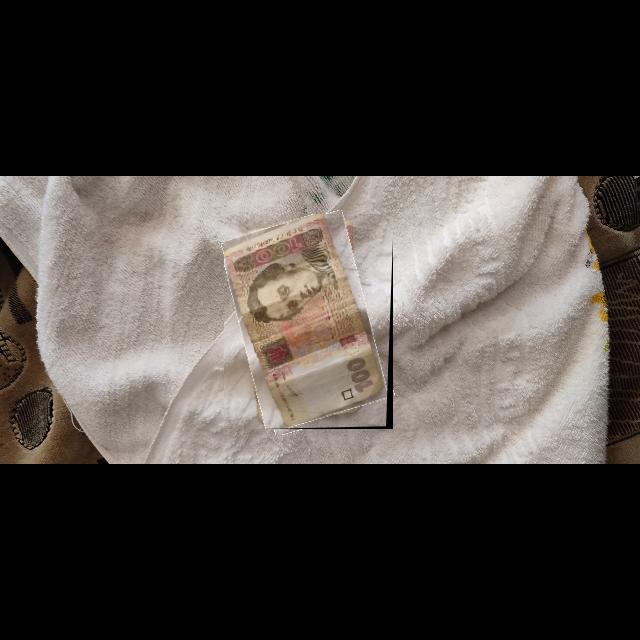100uah: (224, 214, 389, 429)
